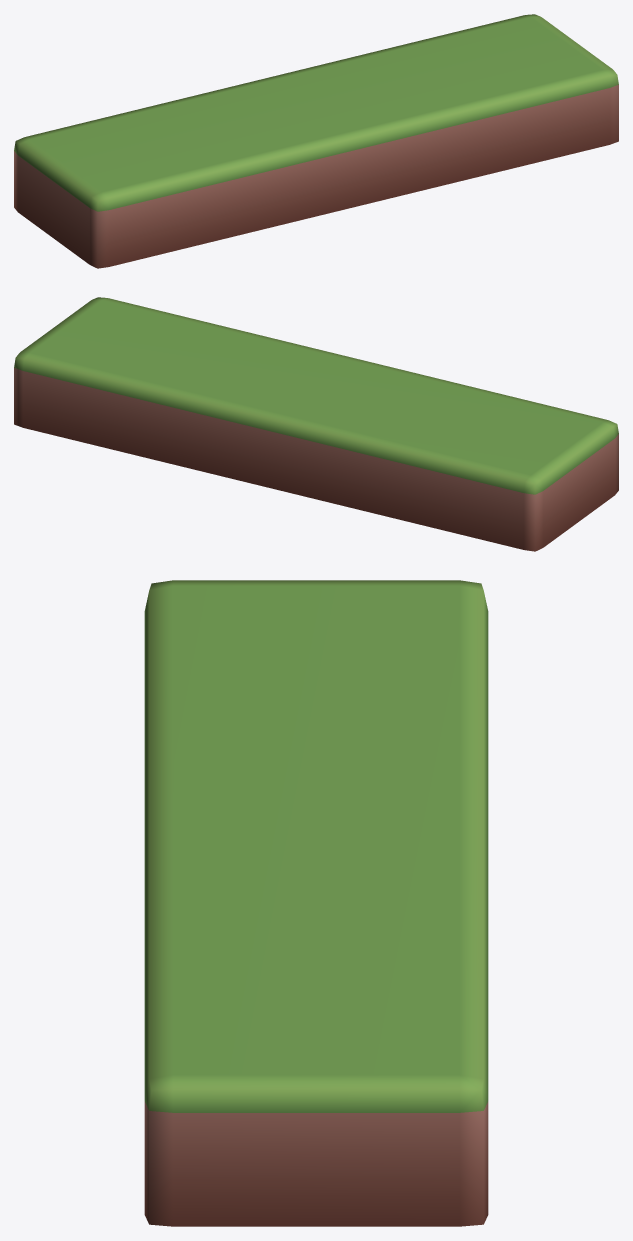
File: Forest_RectangleSmall.fbx
3 views of the same model, one above another, from view 1: azimuth 30°, elevation 25°; view 2: azimuth 150°, elevation 25°; view 3: azimuth 270°, elevation 25° (orthographic). The views are drawn at different scales.
Parts seen in each view (by area): view 1: Plane.065; view 2: Plane.065; view 3: Plane.065.
Part boxes in pixels (x1=…): Plane.065: x1=14, y1=14, x2=618, y2=268; Plane.065: x1=14, y1=297, x2=618, y2=551; Plane.065: x1=144, y1=580, x2=488, y2=1226.
Size of the model in its own units: 458 by 58.15 by 130.
